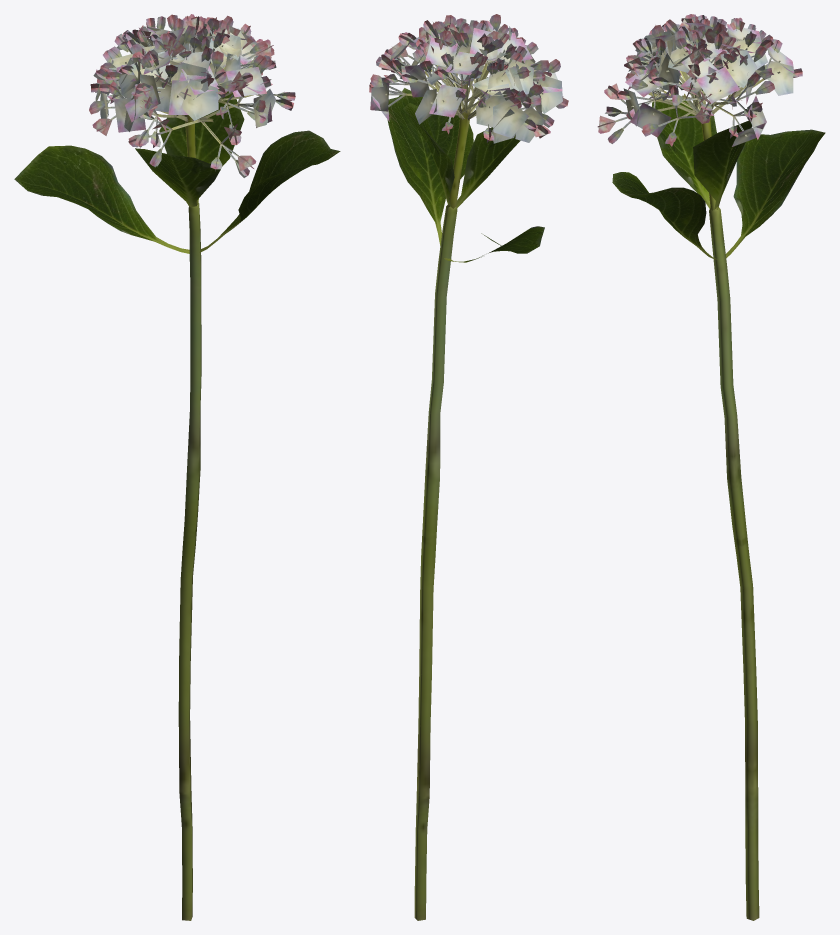
File: Hydrangea_baby_long_peach.glb
3 renders of one model, left to right at view 1: azimuth 30°, elevation 25°; view 2: azimuth 150°, elevation 25°; view 3: azimuth 270°, elevation 25°, orthographic. The views are drawn at different scales.
Visible parts, largest first — view 1: BABY; view 2: BABY; view 3: BABY.
Boxes of the visible parts, left/top/right/bottom form: BABY: left=14, top=14, right=340, bottom=920; BABY: left=369, top=14, right=568, bottom=920; BABY: left=597, top=14, right=825, bottom=920.
Size of the model in its own units: 0.7928 by 3.08 by 0.7195.
1 material, 1 textured.
